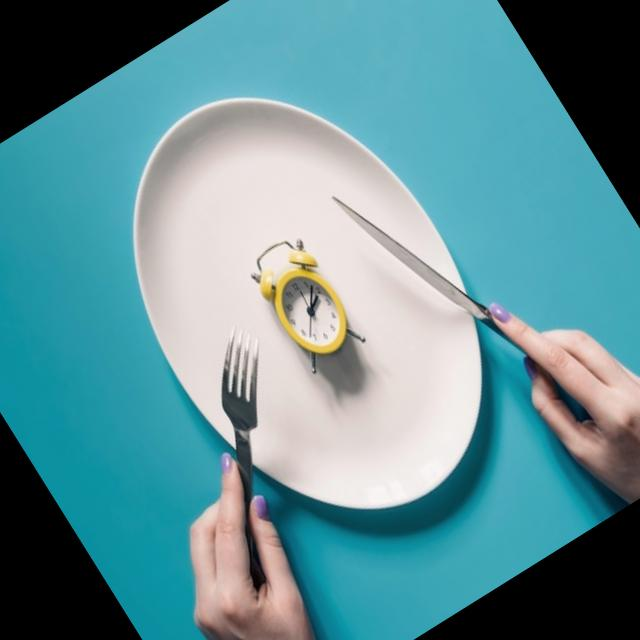fork: (115, 317, 384, 621)
